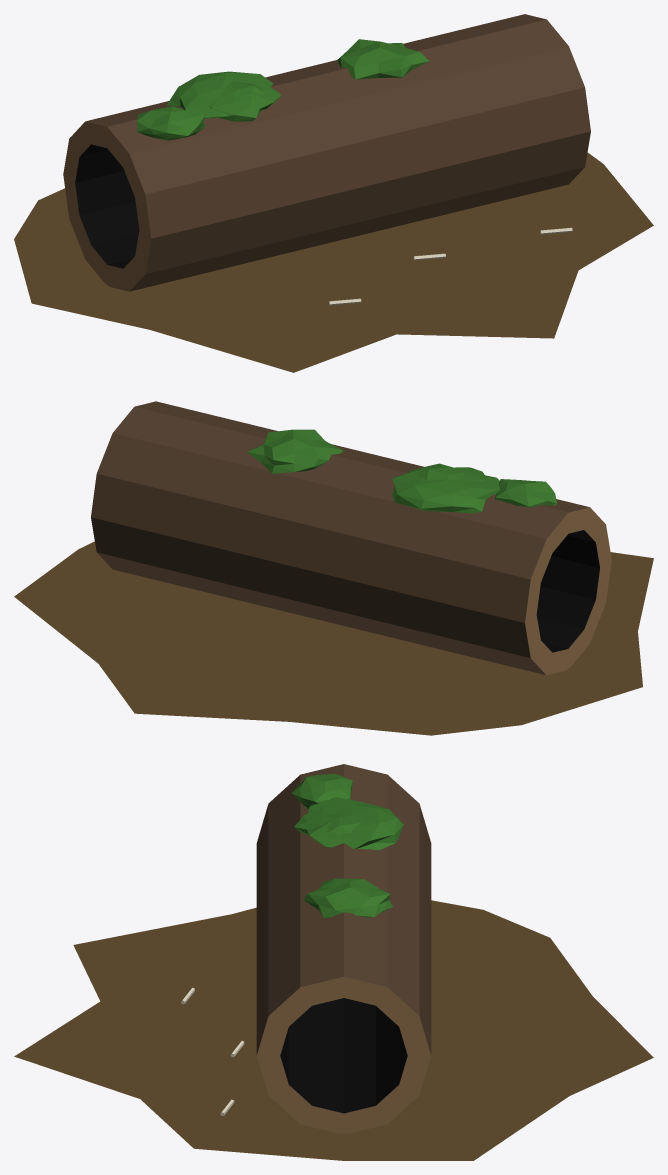
Rendered from JU_Habitat_JaguarLog.obj.
3 views of the same model, one above another, from view 1: azimuth 30°, elevation 25°; view 2: azimuth 150°, elevation 25°; view 3: azimuth 270°, elevation 25° (orthographic).
Parts seen in each view (by area): view 1: log_bark, litter, log_inside, log_rings, moss_2, moss_1, moss_3, moss_0; view 2: log_bark, litter, log_inside, log_rings, moss_2, moss_1, moss_3, moss_0; view 3: litter, log_bark, log_inside, log_rings, moss_2, moss_1, moss_3, moss_0.
Boxes of the visible parts, x1,y1,x2,y2 form: log_bark: (86, 14, 590, 291); litter: (14, 152, 653, 372); log_inside: (75, 144, 139, 268); log_rings: (63, 121, 151, 291); moss_2: (167, 71, 280, 118); moss_1: (337, 39, 429, 79); moss_3: (137, 106, 205, 140); moss_0: (209, 81, 274, 121); log_bark: (91, 401, 589, 674); litter: (14, 541, 653, 735); log_inside: (536, 530, 599, 652); log_rings: (525, 507, 611, 675); moss_2: (392, 463, 499, 513); moss_1: (247, 429, 343, 473); moss_3: (495, 479, 556, 507); moss_0: (417, 467, 485, 481); litter: (14, 900, 653, 1160); log_bark: (256, 764, 431, 1055); log_inside: (280, 998, 407, 1113); log_rings: (257, 976, 430, 1133); moss_2: (307, 797, 403, 850); moss_1: (304, 878, 392, 917); moss_3: (291, 773, 352, 808); moss_0: (294, 806, 361, 841).
Size of the model in its own units: 19.51 by 5.51 by 19.07.
